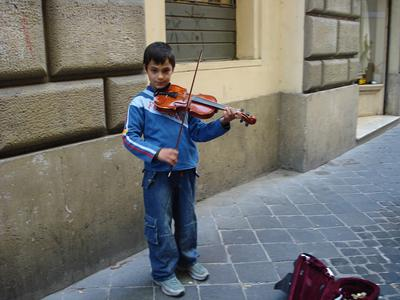person: (122, 42, 243, 298)
